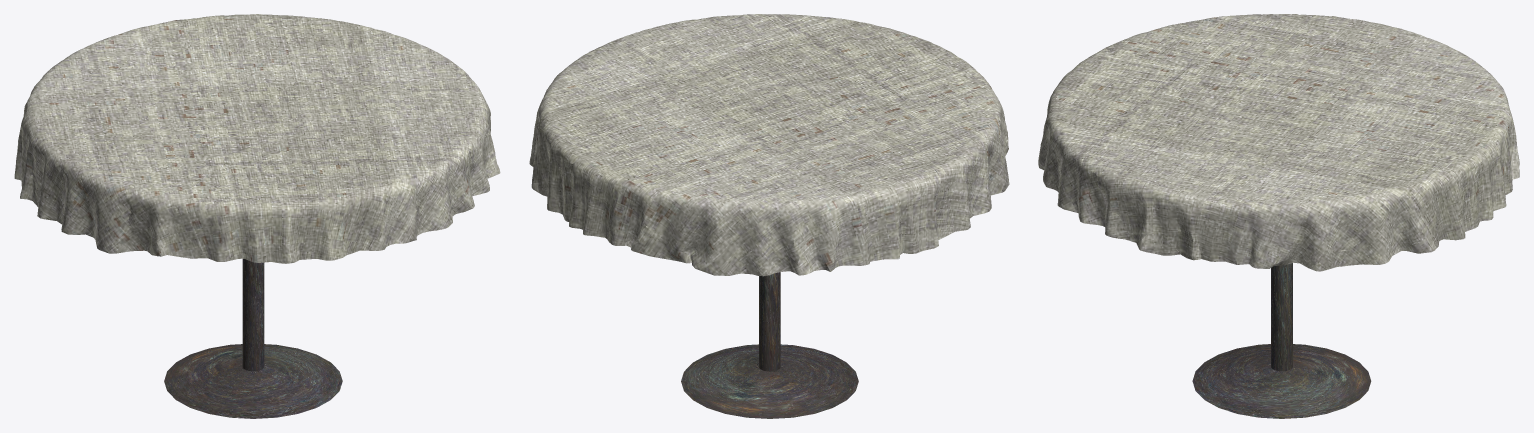
Rendered from table.obj.
The picture shows the model from 3 angles, left to right: view 1: azimuth 30°, elevation 25°; view 2: azimuth 150°, elevation 25°; view 3: azimuth 270°, elevation 25°; orthographic projection.
Parts seen in each view (by area): view 1: Tela, base13, stand13; view 2: Tela, base13, stand13; view 3: Tela, base13, stand13.
Part boxes in pixels (x1,y1,x2,y2): Tela: [14, 14, 500, 263]; base13: [164, 344, 342, 418]; stand13: [242, 259, 264, 371]; Tela: [529, 14, 1009, 276]; base13: [681, 344, 858, 418]; stand13: [759, 272, 780, 371]; Tela: [1038, 14, 1519, 271]; base13: [1192, 344, 1371, 418]; stand13: [1271, 263, 1292, 371].
Bounding box in the file's own units: 1.28 × 0.8067 × 1.28.
Materials: 4 (4 with a texture image).
